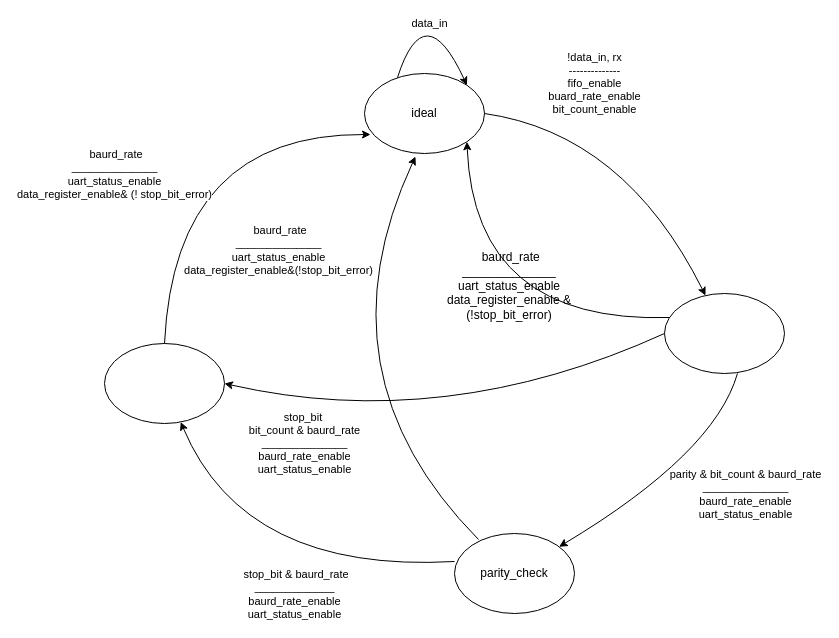
This 839x638 diagram has some shape labels left out. Each missing label, with the centre of its shape:
"start_receiving" belongs at pixel 724 333.
"stop_bit_check" belongs at pixel 164 383.
